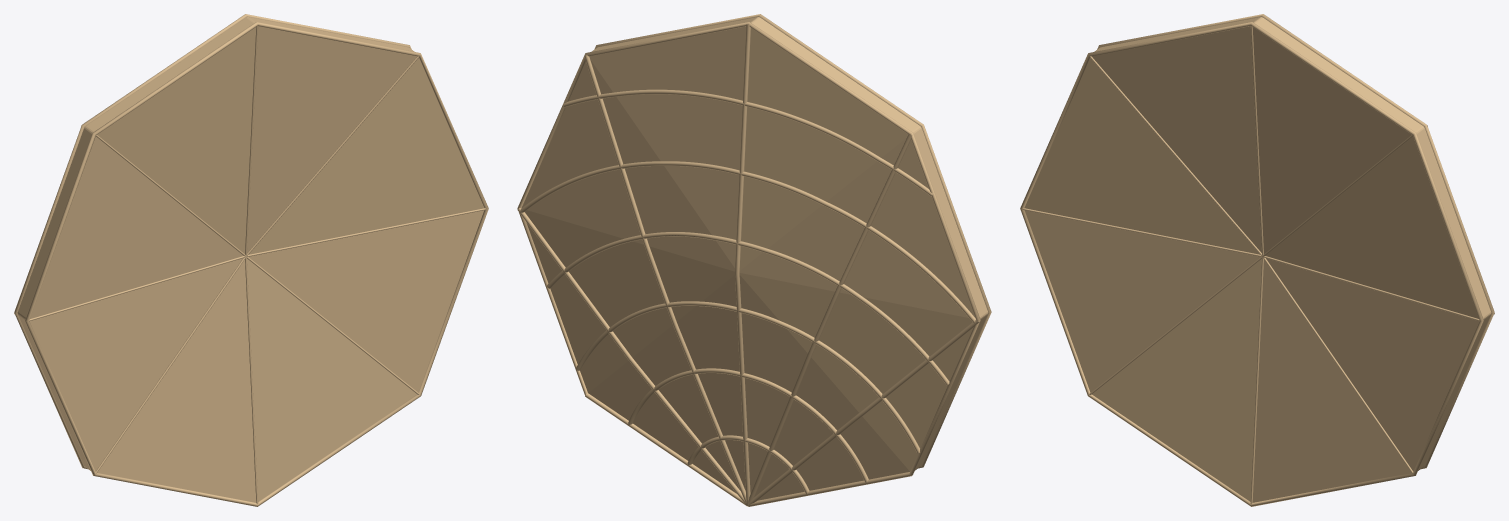
The model's file is facet-gold.glb.
3 renders of one model, left to right at view 1: azimuth 30°, elevation 25°; view 2: azimuth 150°, elevation 25°; view 3: azimuth 330°, elevation 25°, orthographic.
Visible parts, largest first — view 1: Closed eight-sided double-face plate, Front octagonal rim, Reverse rolled rim, Front radial crease.003, Front radial crease.007, Front radial crease.004, Front radial crease.006, Front radial crease, Front radial crease.002, Front radial crease.005; view 2: Closed eight-sided double-face plate, Reverse rolled rim, Reverse concentric lattice.004, Front octagonal rim, Reverse fan strut, Reverse concentric lattice.003, Reverse fan strut.006, Reverse concentric lattice.002, Reverse concentric lattice.005, Reverse fan strut.001, Reverse fan strut.005, Reverse concentric lattice.001 (+4 smaller); view 3: Closed eight-sided double-face plate, Front octagonal rim, Reverse rolled rim, Front radial crease.005, Front radial crease.001, Front radial crease.004, Front radial crease.002, Front radial crease, Front radial crease.006, Front radial crease.003.
Part boxes in pixels (bbox=[...]): Closed eight-sided double-face plate: bbox=[17, 17, 484, 502]; Front octagonal rim: bbox=[25, 22, 488, 506]; Reverse rolled rim: bbox=[14, 14, 411, 468]; Front radial crease.003: bbox=[95, 257, 245, 473]; Front radial crease.007: bbox=[246, 56, 419, 256]; Front radial crease.004: bbox=[245, 257, 258, 504]; Front radial crease.006: bbox=[247, 208, 486, 256]; Front radial crease: bbox=[245, 26, 258, 256]; Front radial crease.002: bbox=[29, 256, 245, 321]; Front radial crease.005: bbox=[246, 256, 419, 394]; Closed eight-sided double-face plate: bbox=[522, 17, 988, 500]; Reverse rolled rim: bbox=[517, 22, 980, 475]; Reverse concentric lattice.004: bbox=[520, 161, 975, 323]; Front octagonal rim: bbox=[594, 14, 991, 468]; Reverse fan strut: bbox=[735, 24, 750, 505]; Reverse concentric lattice.003: bbox=[547, 232, 949, 385]; Reverse fan strut.006: bbox=[584, 55, 747, 505]; Reverse concentric lattice.002: bbox=[576, 301, 919, 453]; Reverse concentric lattice.005: bbox=[563, 89, 932, 196]; Reverse fan strut.001: bbox=[748, 134, 911, 505]; Reverse fan strut.005: bbox=[517, 208, 746, 504]; Reverse concentric lattice.001: bbox=[628, 368, 868, 482]; Closed eight-sided double-face plate: bbox=[1024, 17, 1491, 502]; Front octagonal rim: bbox=[1020, 22, 1483, 506]; Reverse rolled rim: bbox=[1097, 14, 1494, 468]; Front radial crease.005: bbox=[1263, 257, 1413, 473]; Front radial crease.001: bbox=[1089, 56, 1262, 256]; Front radial crease.004: bbox=[1250, 257, 1263, 504]; Front radial crease.002: bbox=[1022, 208, 1261, 256]; Front radial crease: bbox=[1250, 26, 1263, 256]; Front radial crease.006: bbox=[1263, 256, 1479, 321]; Front radial crease.003: bbox=[1089, 256, 1262, 394].
Bounding box in the file's own units: 2.02 × 2.02 × 0.1872.
